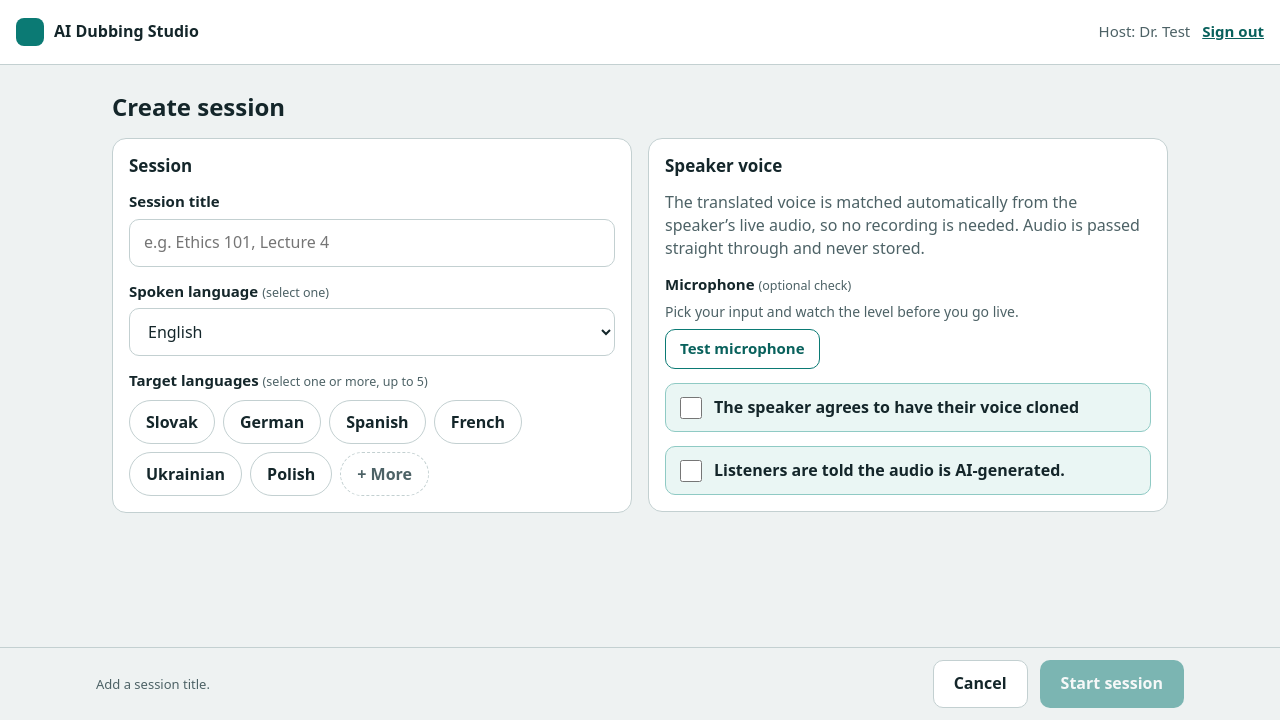
Create session: microphone check › explains a blocked microphone and lets the host try again
Step 1. Click the button "Test microphone" → (742, 348), box [665, 328, 820, 368]
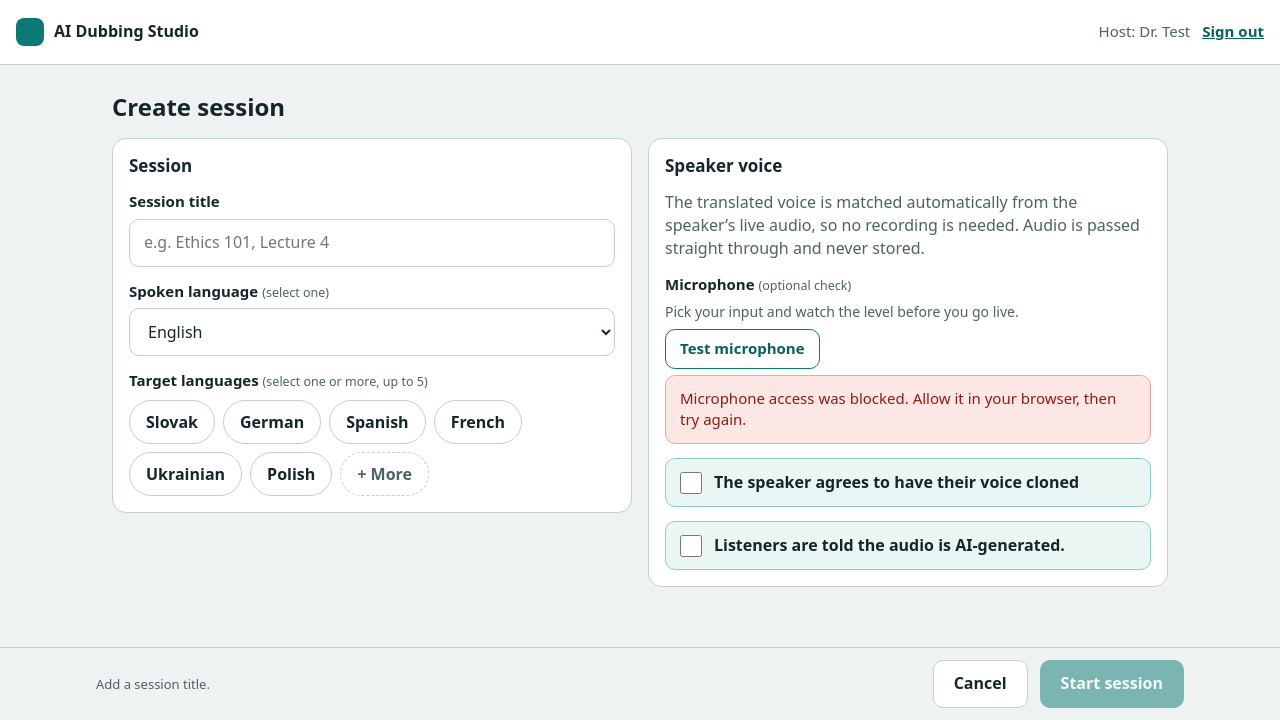
expect the message shows "blocked": met, box [680, 388, 1116, 429]
